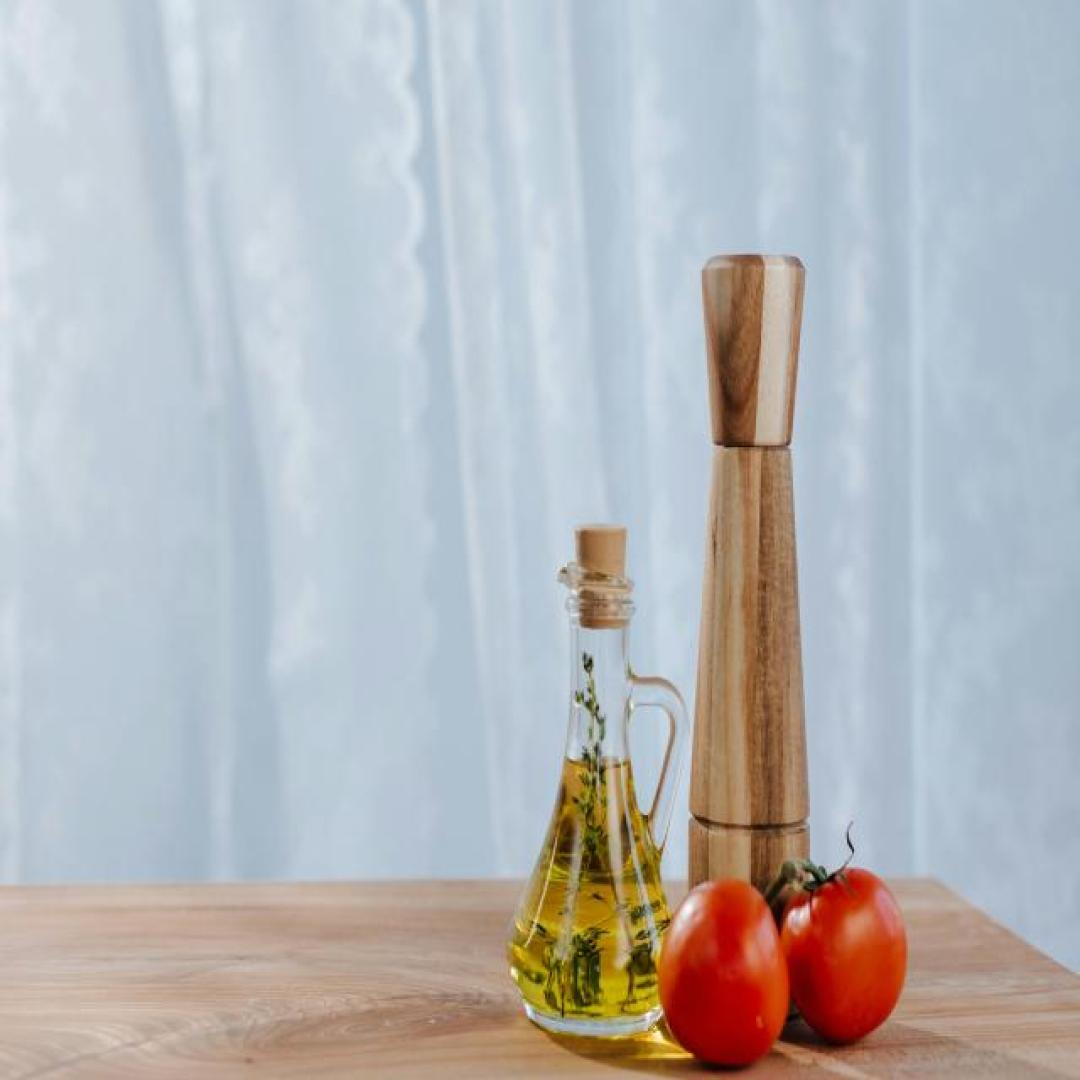matang: (660, 878, 791, 1074), (776, 871, 908, 1043)
